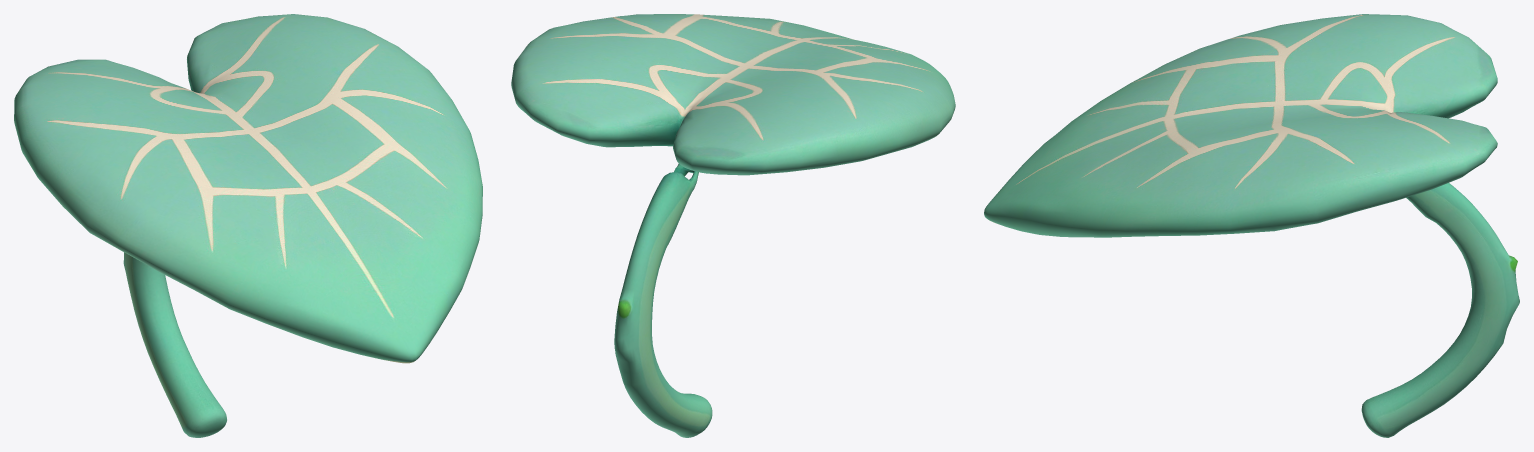
The model's file is pothos_cream_vein_v1.glb.
3 views of the same model, side by side, from view 1: azimuth 30°, elevation 25°; view 2: azimuth 150°, elevation 25°; view 3: azimuth 270°, elevation 25° (orthographic). The views are drawn at different scales.
Parts seen in each view (by area): view 1: world; view 2: world; view 3: world.
Part boxes in pixels (x1=…): world: x1=14, y1=14, x2=482, y2=437; world: x1=511, y1=14, x2=955, y2=437; world: x1=984, y1=14, x2=1519, y2=437.
Bounding box in the file's own units: 1.59 × 1.45 × 2.
Materials: 1 (1 with a texture image).
